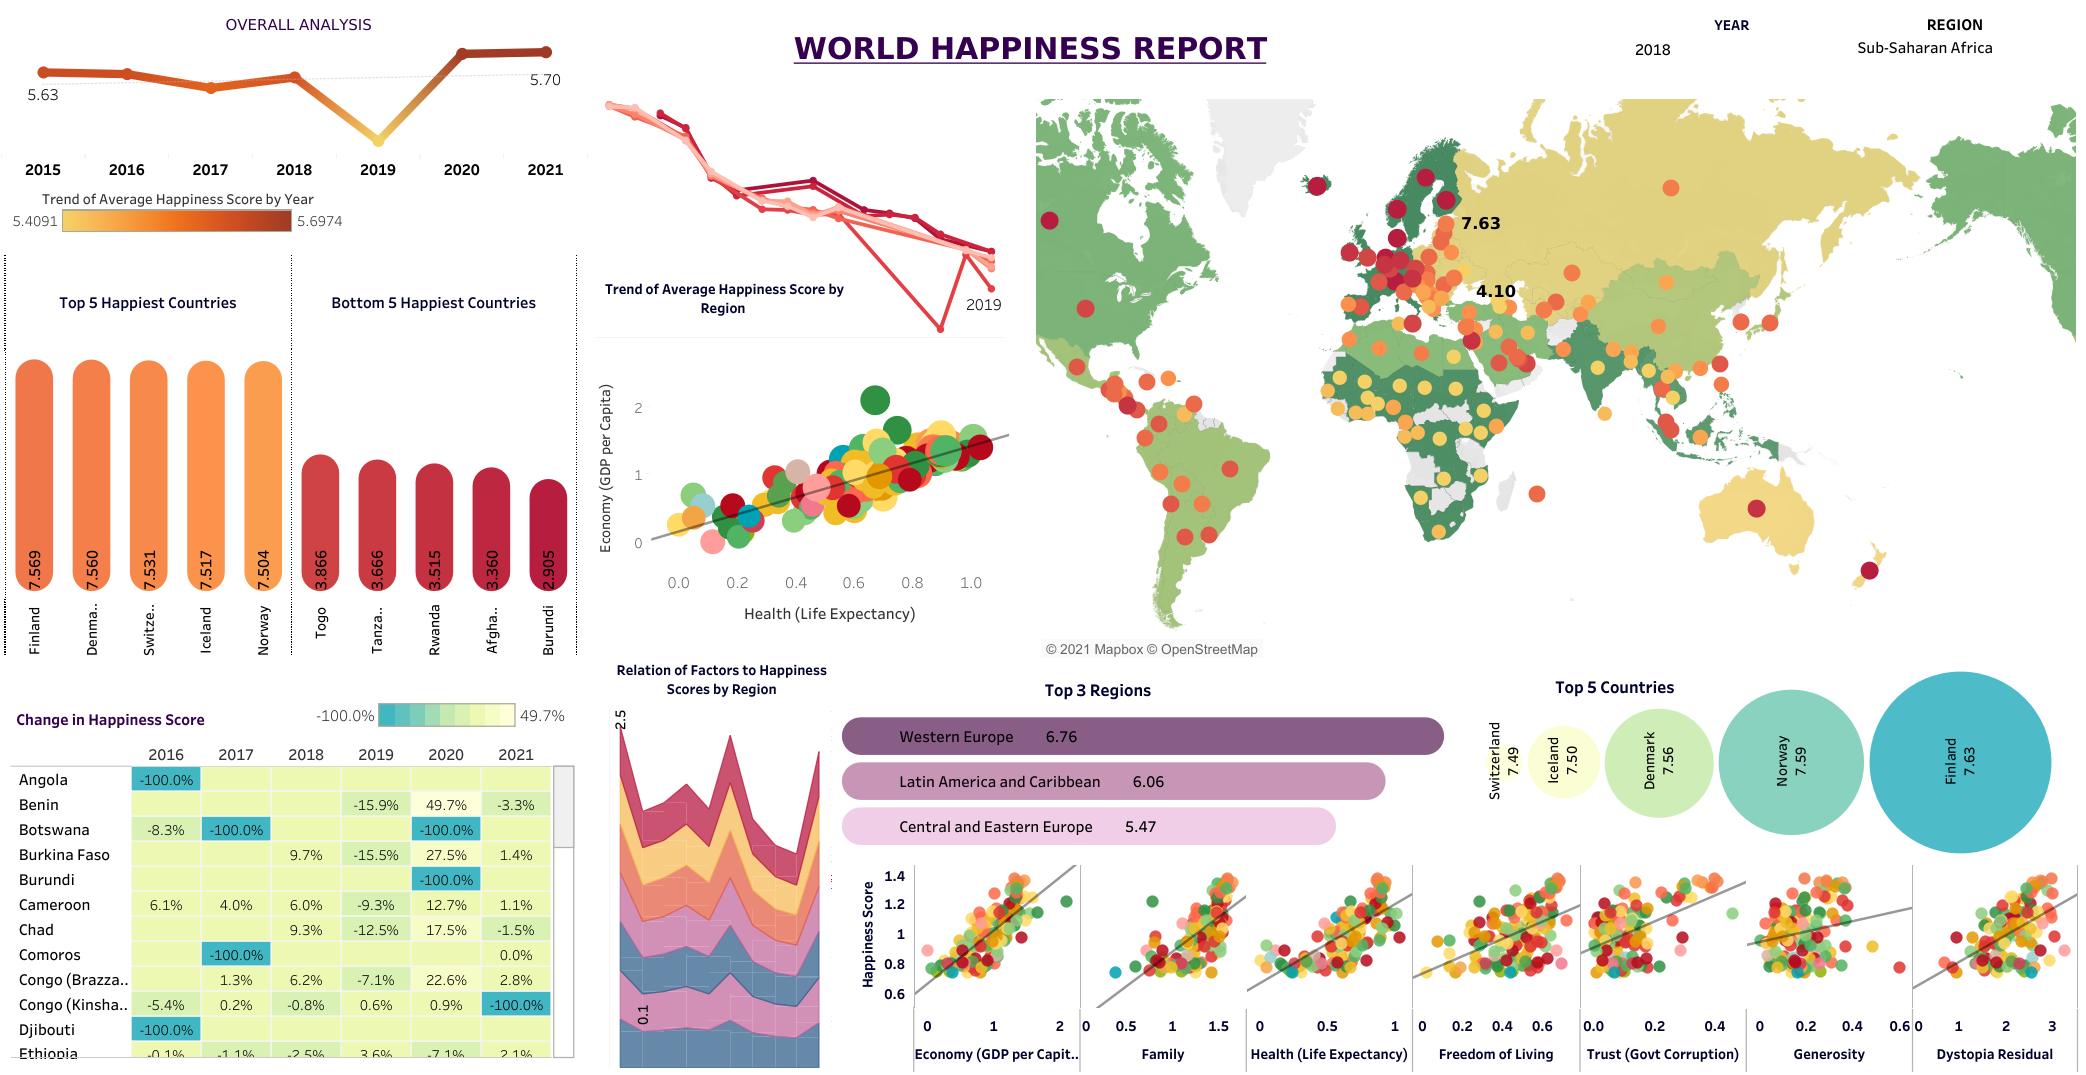

The page's visual inventory and layout, read from the dashboard file:
{"tool":"tableau","page":{"name":"Dashboard 2","canvas":[1670,861],"ordinal":0},"visuals":[{"type":"text","box":[122,4,234,30]},{"type":"parameter","param":"[Parameters].[Parameter 2]","box":[1484,9,160,62]},{"type":"text","box":[493,10,664,57]},{"type":"parameter","param":"[Parameters].[Parameter 1]","box":[1306,11,160,74]},{"type":"worksheet","title":"Trend of Avg. Happines Score by Year","mark":"Line","rows":["Happiness Score"],"cols":["Calculation_1247497149097095177"],"box":[1,16,480,128]},{"type":"worksheet","title":"Trend of avg. happiness score by region","mark":"Line","rows":["Happiness Score"],"cols":["Region"],"box":[477,75,326,195]},{"type":"worksheet","title":"Map - Dual Axis","mark":"Multipolygon","box":[829,79,837,454]},{"type":"legend","title":"Trend of Avg. Happines Score by Year","param":"[federated.0f79f090q3vwfp14155ng1kjaljb].[avg:Happiness Score:qk]","box":[6,147,273,42]},{"type":"worksheet","title":"All Top & Bottom Countries","mark":"Line","cols":["Top 5 Countries","Country"],"box":[4,203,458,324]},{"type":"text","box":[475,213,207,50]},{"type":"worksheet","title":"GDP vs Life Expectancy ","mark":"Automatic","rows":["Economy (GDP per Capita)"],"cols":["Health (Life Expectancy)"],"box":[469,302,338,204]},{"type":"text","box":[489,507,177,71]},{"type":"worksheet","title":"Top  5 Countries","mark":"Circle","box":[1182,531,481,154]},{"type":"text","box":[1220,533,144,30]},{"type":"text","box":[819,536,119,30]},{"type":"legend","title":"Change in Happiness Score","param":"[federated.0f79f090q3vwfp14155ng1kjaljb].[pcdf:avg:Happiness Score:qk:1]","box":[249,559,208,33]},{"type":"worksheet","title":"Change in Happiness Score","mark":"Square","rows":["Country"],"cols":["Calculation_1247497149097095177"],"box":[9,560,454,287]},{"type":"worksheet","title":"Relation of factors to happiness score by region","mark":"Area","rows":["Happiness Score"],"cols":["Region"],"box":[487,567,177,287]},{"type":"worksheet","title":"Avg. Happiness Score by Region","mark":"Line","rows":["Region"],"box":[650,570,531,110]},{"type":"worksheet","title":"Relation of factors with happiness Score by Country","mark":"Automatic","rows":["Happiness Score"],"cols":["Economy (GDP per Capita)","Family","Health (Life Expectancy)","Freedom","Trust (Government Corruption)","Generosity","Dystopia Residual"],"box":[679,692,985,166]}]}

Visuals, with their boxes in screenshot pixels (x1, y1, x2, y2), scaled from the page's 1670x861 canvas onto the 2086x1075 screenshot:
text: {"x1": 152, "y1": 5, "x2": 445, "y2": 42}
parameter: {"x1": 1854, "y1": 11, "x2": 2054, "y2": 89}
text: {"x1": 616, "y1": 12, "x2": 1445, "y2": 84}
parameter: {"x1": 1631, "y1": 14, "x2": 1831, "y2": 106}
"Trend of Avg. Happines Score by Year" worksheet (Line marks): {"x1": 1, "y1": 20, "x2": 601, "y2": 180}
"Trend of avg. happiness score by region" worksheet (Line marks): {"x1": 596, "y1": 94, "x2": 1003, "y2": 337}
"Map - Dual Axis" worksheet (Multipolygon marks): {"x1": 1036, "y1": 99, "x2": 2081, "y2": 665}
"Trend of Avg. Happines Score by Year" legend: {"x1": 7, "y1": 184, "x2": 348, "y2": 236}
"All Top & Bottom Countries" worksheet (Line marks): {"x1": 5, "y1": 253, "x2": 577, "y2": 658}
text: {"x1": 593, "y1": 266, "x2": 852, "y2": 328}
"GDP vs Life Expectancy " worksheet: {"x1": 586, "y1": 377, "x2": 1008, "y2": 632}
text: {"x1": 611, "y1": 633, "x2": 832, "y2": 722}
"Top  5 Countries" worksheet (Circle marks): {"x1": 1476, "y1": 663, "x2": 2077, "y2": 855}
text: {"x1": 1524, "y1": 665, "x2": 1704, "y2": 703}
text: {"x1": 1023, "y1": 669, "x2": 1172, "y2": 707}
"Change in Happiness Score" legend: {"x1": 311, "y1": 698, "x2": 571, "y2": 739}
"Change in Happiness Score" worksheet (Square marks): {"x1": 11, "y1": 699, "x2": 578, "y2": 1058}
"Relation of factors to happiness score by region" worksheet (Area marks): {"x1": 608, "y1": 708, "x2": 829, "y2": 1066}
"Avg. Happiness Score by Region" worksheet (Line marks): {"x1": 812, "y1": 712, "x2": 1475, "y2": 849}
"Relation of factors with happiness Score by Country" worksheet: {"x1": 848, "y1": 864, "x2": 2079, "y2": 1071}
